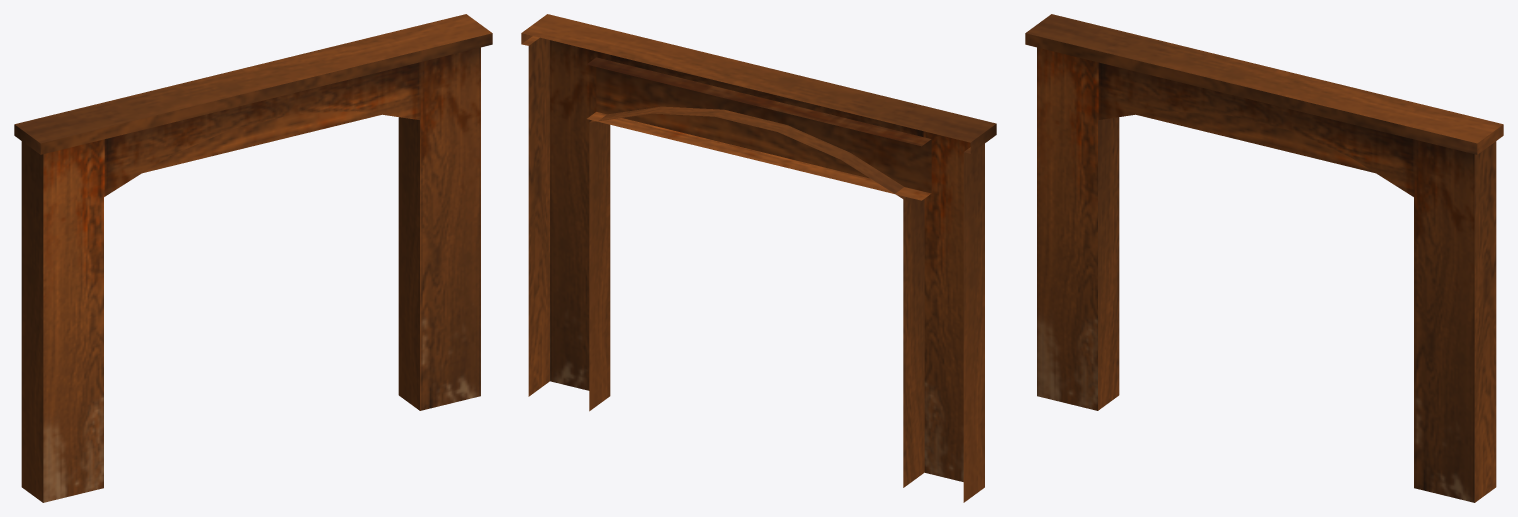
File: prop_fireplace.obj
The picture shows the model from 3 angles, left to right: view 1: azimuth 30°, elevation 25°; view 2: azimuth 150°, elevation 25°; view 3: azimuth 330°, elevation 25°; orthographic projection.
Visible parts, largest first — view 1: Props_FireSurround; view 2: Props_FireSurround; view 3: Props_FireSurround.
Boxes of the visible parts, <box> form: Props_FireSurround: <box>14,14,492,502</box>; Props_FireSurround: <box>521,14,996,502</box>; Props_FireSurround: <box>1025,14,1503,502</box>.
Size of the model in its own units: 1.93 by 1.49 by 0.194.
Materials: 1 (1 with a texture image).
